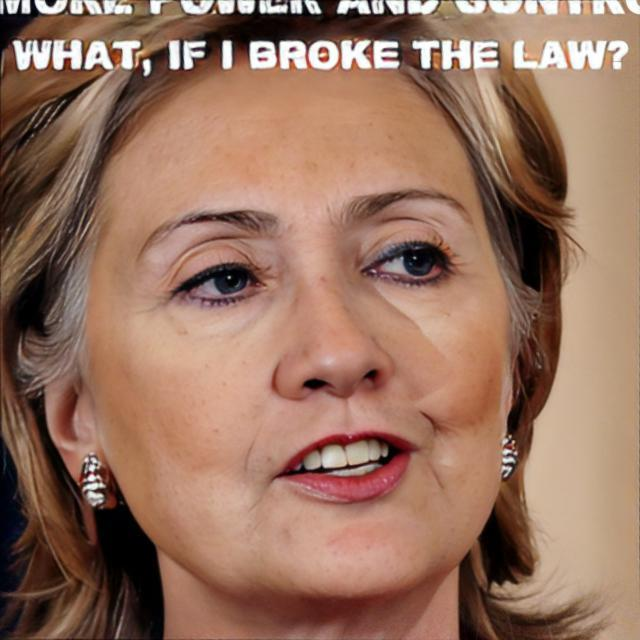content: (88, 74, 509, 614)
